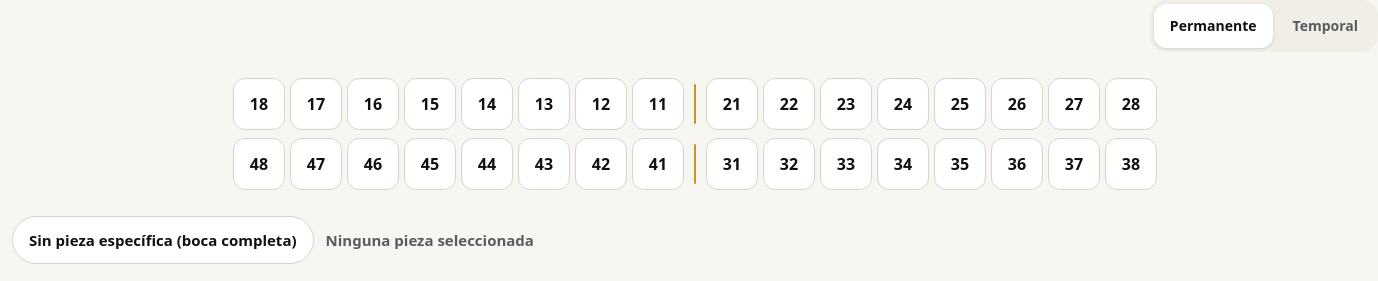
it: ToothPicker › permite elegir varias piezas y muestra el resumen
The image size is (1378, 281).
Click the button named "Pieza 15" at [430, 104], box [404,78,456,130]
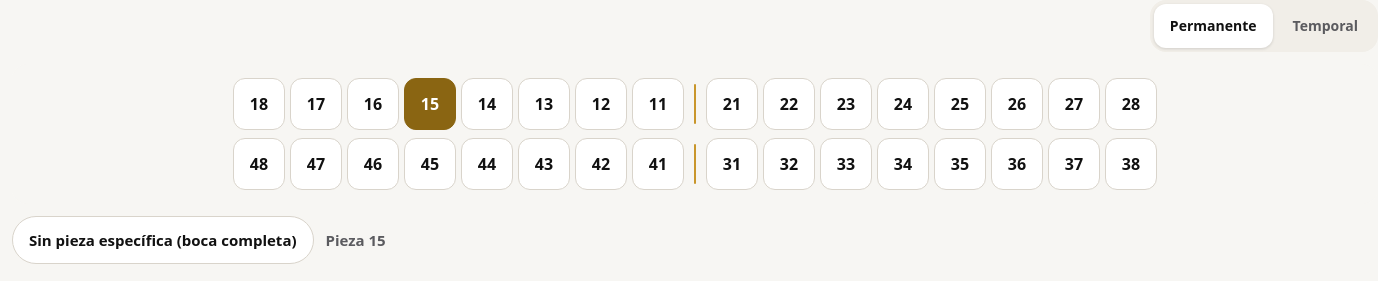
Click the button named "Pieza 24" at [903, 104], box [877,78,929,130]
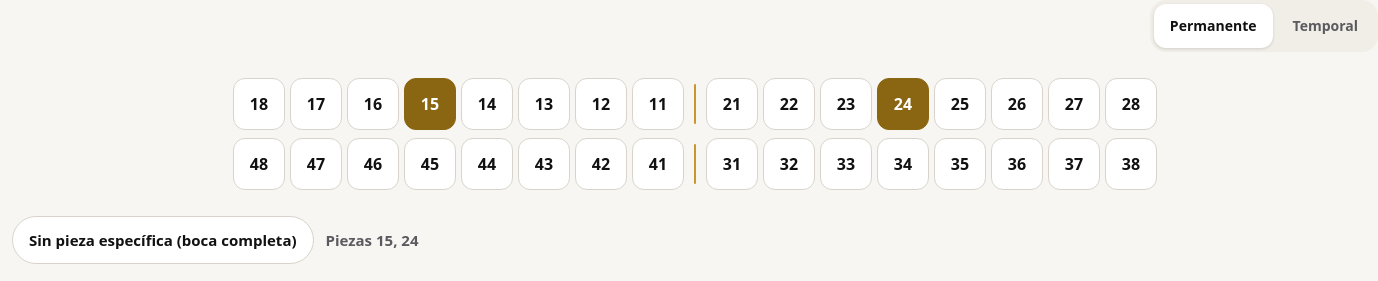
Expected: the text "Piezas 15, 24" is shown, [326,229,418,251]
